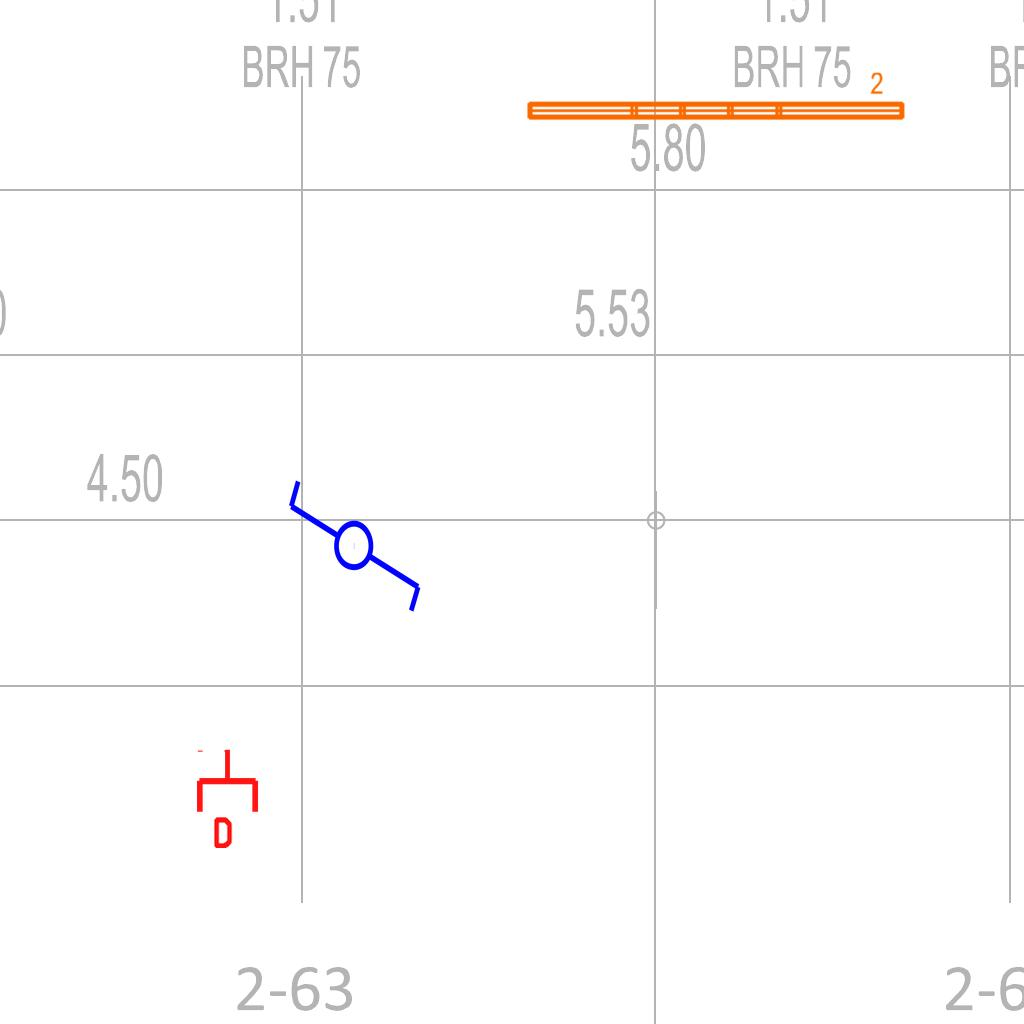Ambulanz_Pendelleuchte_LED: (522, 70, 909, 126)
Datenanschluss_einfach: (193, 748, 262, 848)
Wechselschalter: (284, 459, 428, 616)
